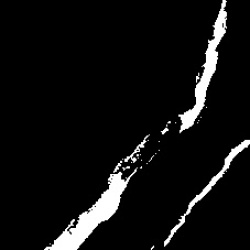crack: (46, 2, 229, 247), (163, 140, 247, 246)
